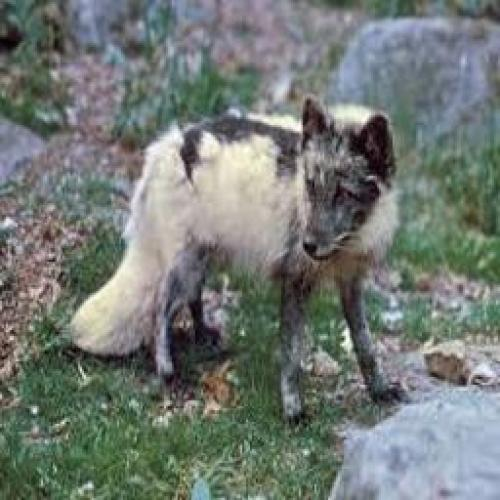arctic_fox-endangered: (70, 99, 411, 424)
